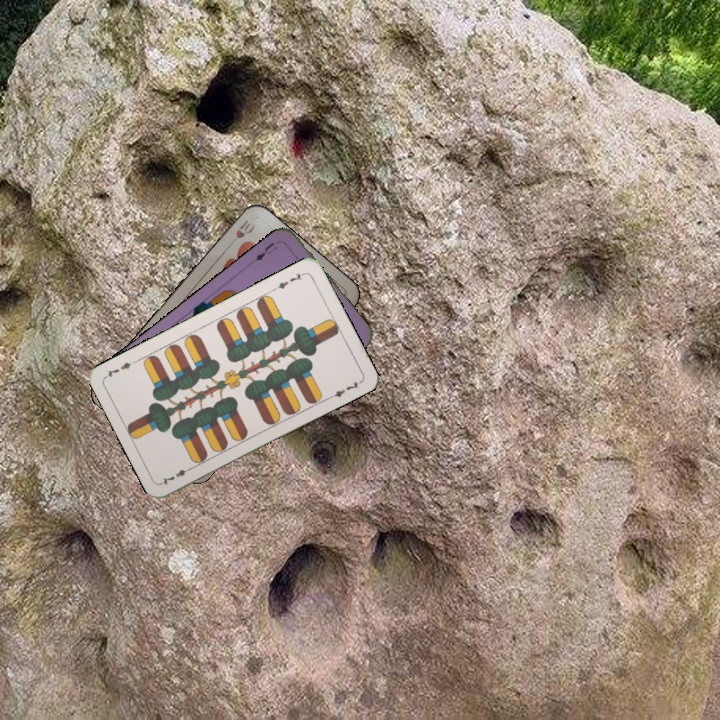E7: (270, 268, 307, 293), (158, 463, 196, 487)
EU: (251, 238, 280, 264)
H10: (225, 216, 258, 249)
